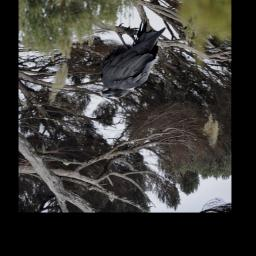Crow: (100, 17, 166, 99)
